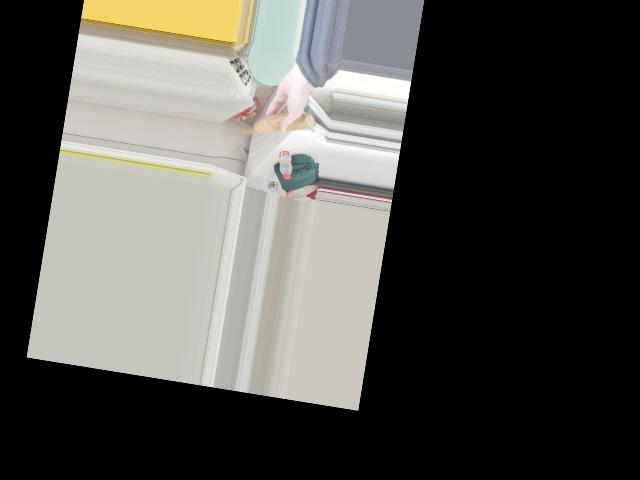sweet_potato: (244, 101, 313, 147)
